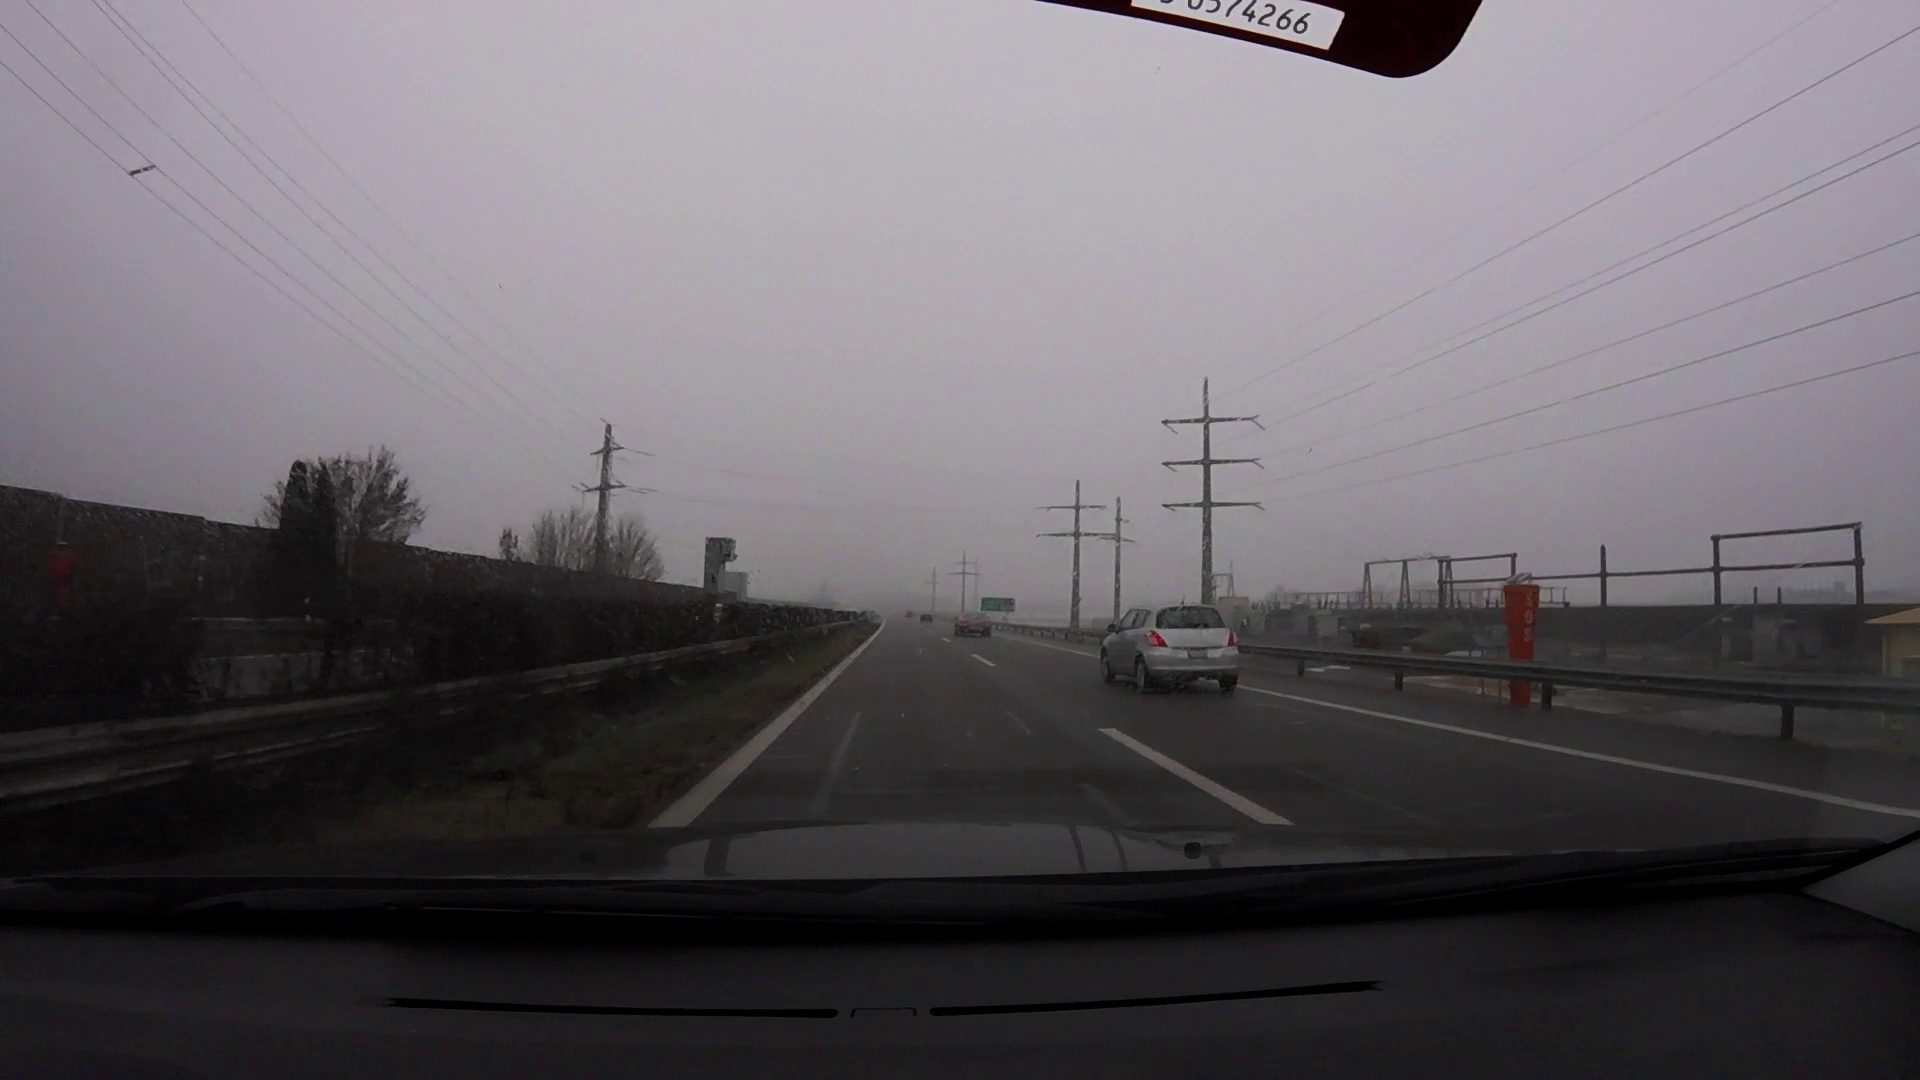radar: (700, 534, 741, 612)
